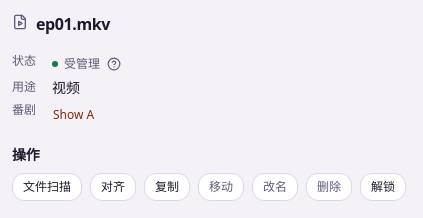
Test: operation buttons › follow the operations list and explain a blocked one in a tooltip
Expected: the button "复制" is enabled, [144,173,190,201]
Expected: the button "删除" is disabled, [306,173,352,201]
Hover over the element showing "移动": (221, 187) [198,173,244,201]
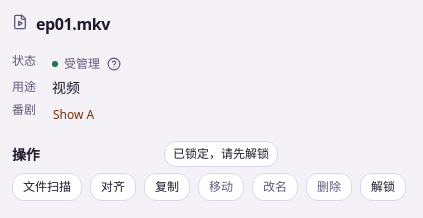
Expected: the text "已锁定，请先解锁" is shown, [164,141,278,167]
